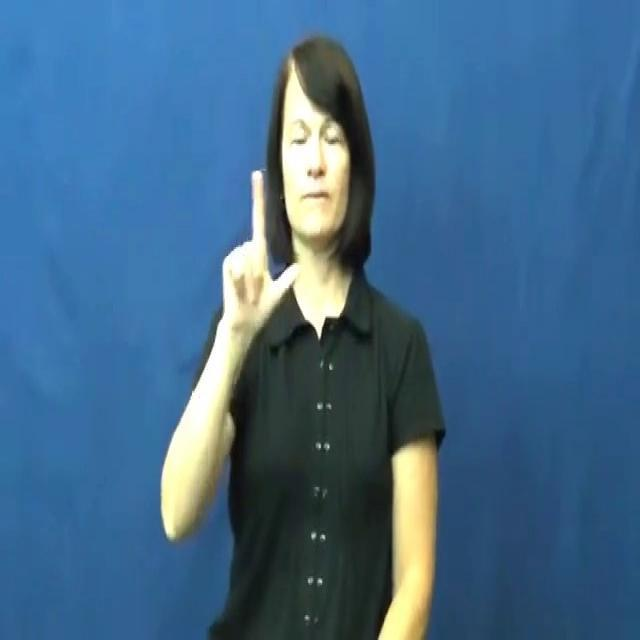refill: (204, 166, 302, 342)
